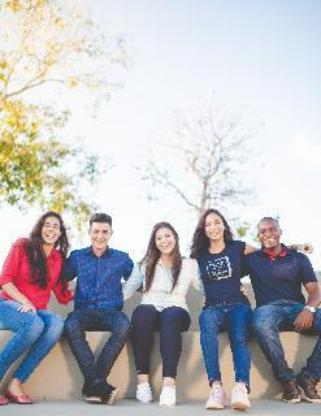person: (64, 208, 139, 416), (188, 200, 255, 416), (250, 215, 321, 414), (0, 207, 71, 403), (129, 218, 194, 416)
